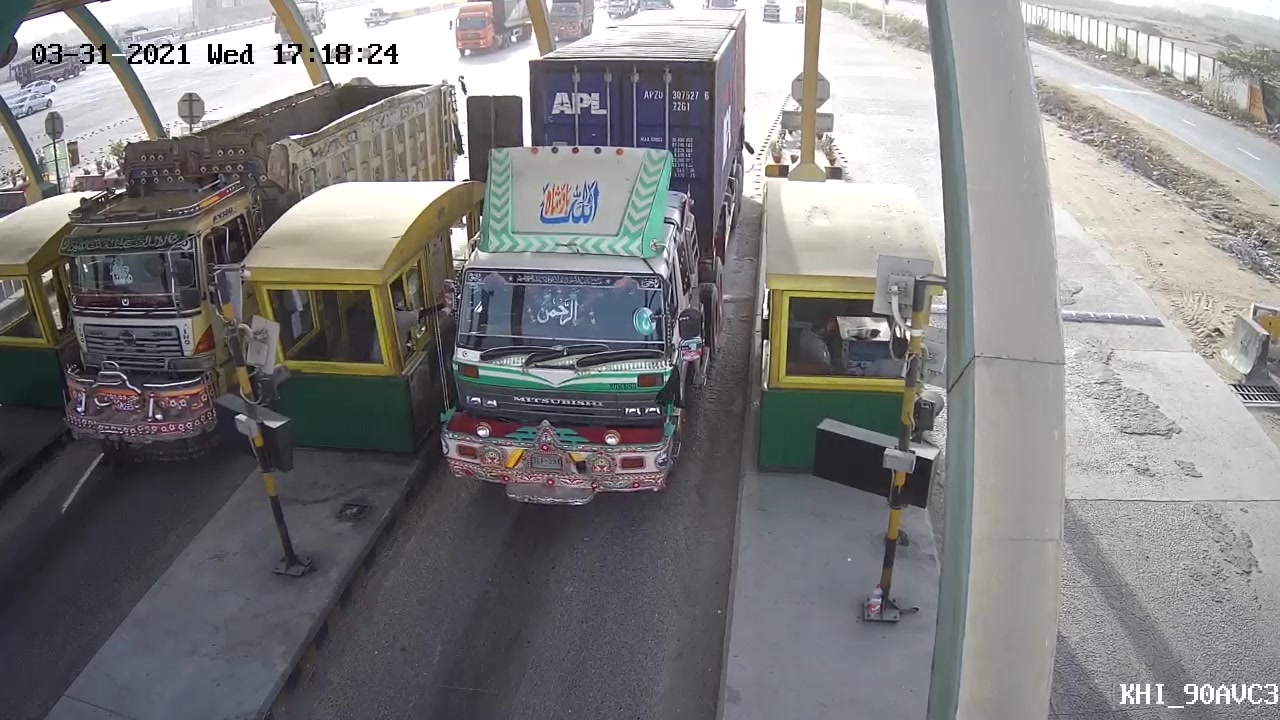F6: (407, 57, 730, 520)
